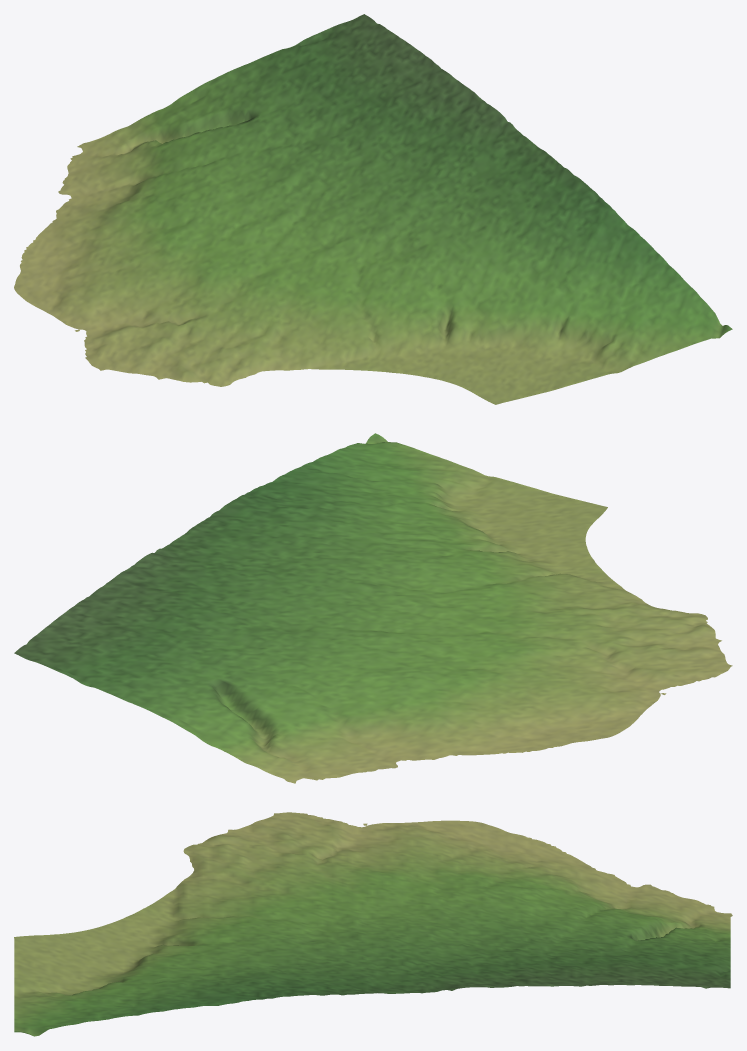
Rendered from lareunion-terrain-8.glb.
3 views of the same model, one above another, from view 1: azimuth 30°, elevation 25°; view 2: azimuth 150°, elevation 25°; view 3: azimuth 270°, elevation 25° (orthographic). The views are drawn at different scales.
Parts seen in each view (by area): view 1: LaReunionRgeAltiTerrain_8; view 2: LaReunionRgeAltiTerrain_8; view 3: LaReunionRgeAltiTerrain_8.
Part boxes in pixels (x1,y1,x2,y2): LaReunionRgeAltiTerrain_8: (14,14,732,404); LaReunionRgeAltiTerrain_8: (14,433,732,783); LaReunionRgeAltiTerrain_8: (14,812,732,1036).
Size of the model in its own units: 40.07 by 5.15 by 51.34.
